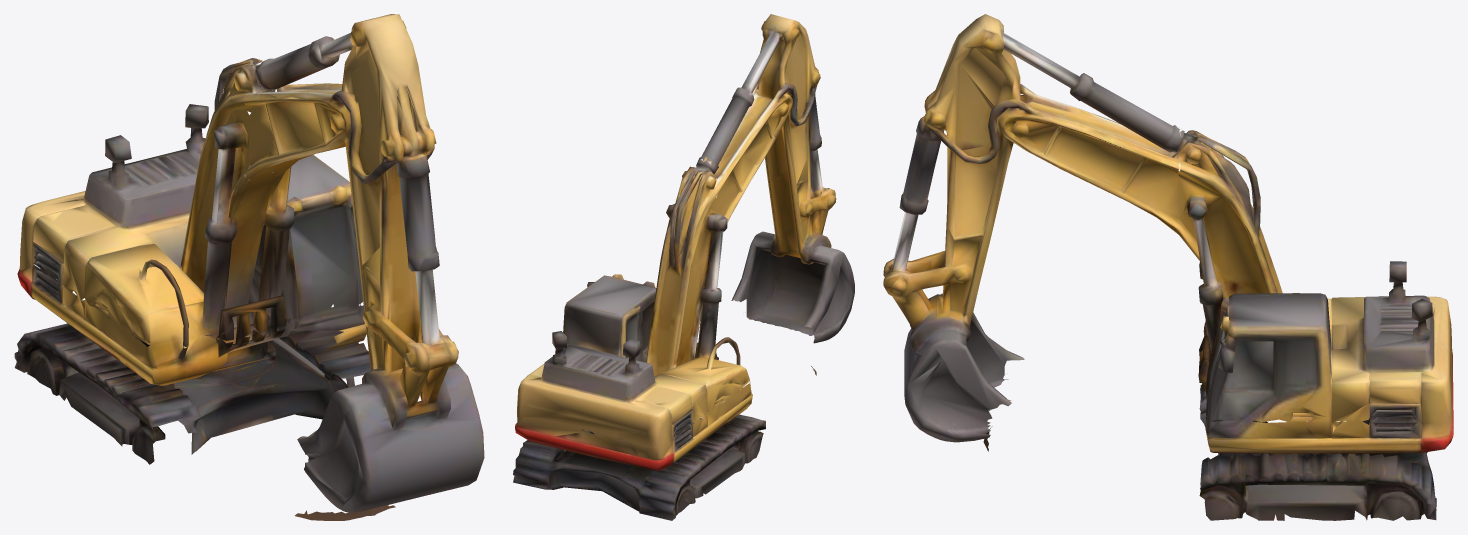
The model's file is excavator_hero_github.glb.
The picture shows the model from 3 angles, left to right: view 1: azimuth 30°, elevation 25°; view 2: azimuth 150°, elevation 25°; view 3: azimuth 270°, elevation 25°; orthographic projection. The views are drawn at different scales.
Visible parts, largest first — view 1: boom, turret, tracks; view 2: turret, boom, tracks; view 3: boom, turret, tracks.
Boxes of the visible parts, x1,y1,x2,y2 form: boom: [244, 14, 484, 520]; turret: [20, 58, 363, 346]; tracks: [14, 251, 370, 464]; turret: [517, 160, 749, 448]; boom: [696, 14, 854, 375]; tracks: [513, 382, 765, 520]; boom: [883, 14, 1181, 451]; turret: [1177, 130, 1451, 424]; tracks: [1199, 344, 1453, 520].
Bounding box in the file's own units: 0.2703 × 0.5478 × 0.6336.
1 material, 1 textured.
